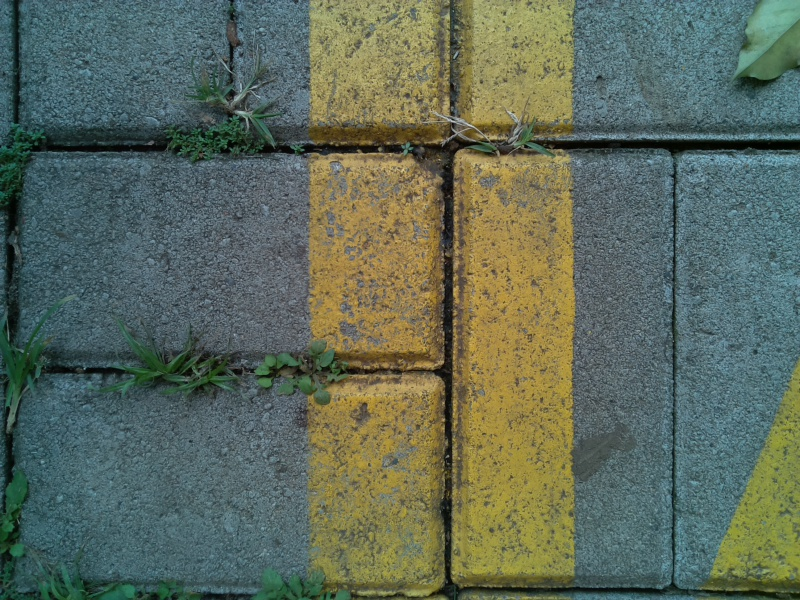Weed: (194, 53, 279, 142), (253, 338, 350, 410), (103, 320, 191, 393), (162, 116, 270, 167), (1, 302, 46, 423), (454, 117, 543, 166), (177, 346, 242, 402), (1, 459, 34, 567), (1, 118, 41, 206), (245, 568, 354, 599), (397, 138, 419, 160), (288, 137, 307, 162)
